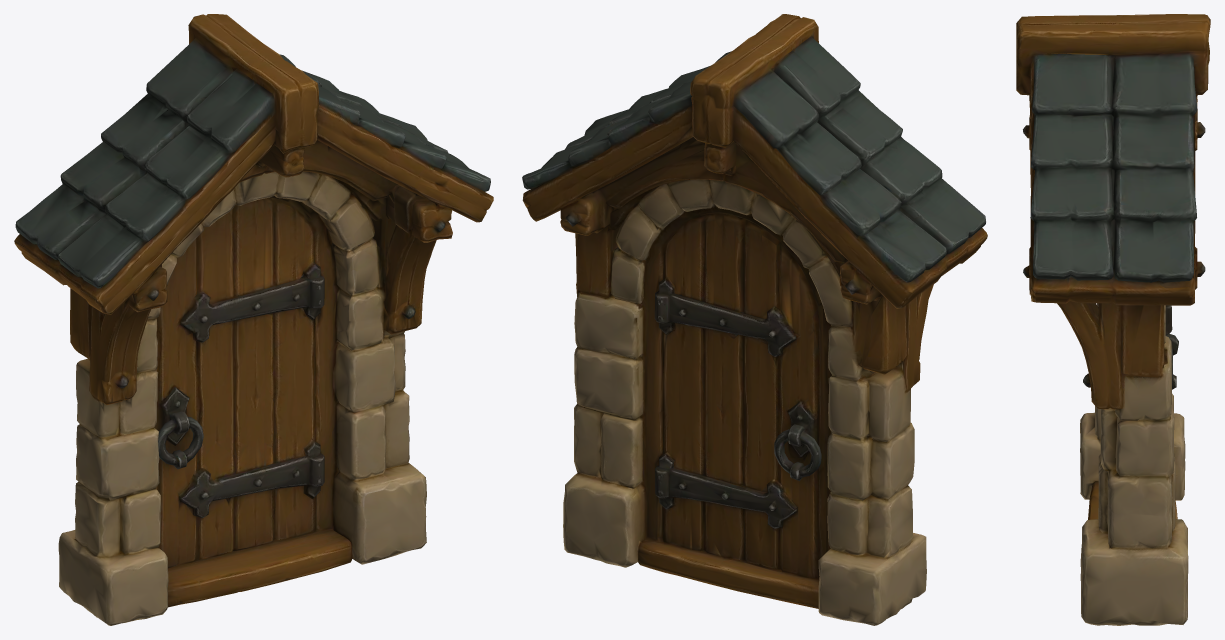
File: mod_door_f.glb
The picture shows the model from 3 angles, left to right: view 1: azimuth 30°, elevation 25°; view 2: azimuth 150°, elevation 25°; view 3: azimuth 270°, elevation 25°; orthographic projection.
Visible parts, largest first — view 1: tripo_node_13969c92-074d-45b0-b96c-2b977dfc9475; view 2: tripo_node_13969c92-074d-45b0-b96c-2b977dfc9475; view 3: tripo_node_13969c92-074d-45b0-b96c-2b977dfc9475.
Boxes of the visible parts, <box> form: tripo_node_13969c92-074d-45b0-b96c-2b977dfc9475: <box>14,14,493,625</box>; tripo_node_13969c92-074d-45b0-b96c-2b977dfc9475: <box>522,14,987,625</box>; tripo_node_13969c92-074d-45b0-b96c-2b977dfc9475: <box>1016,14,1210,625</box>.
Bounding box in the file's own units: 0.7738 × 0.9789 × 0.3255.
1 material, 1 textured.
